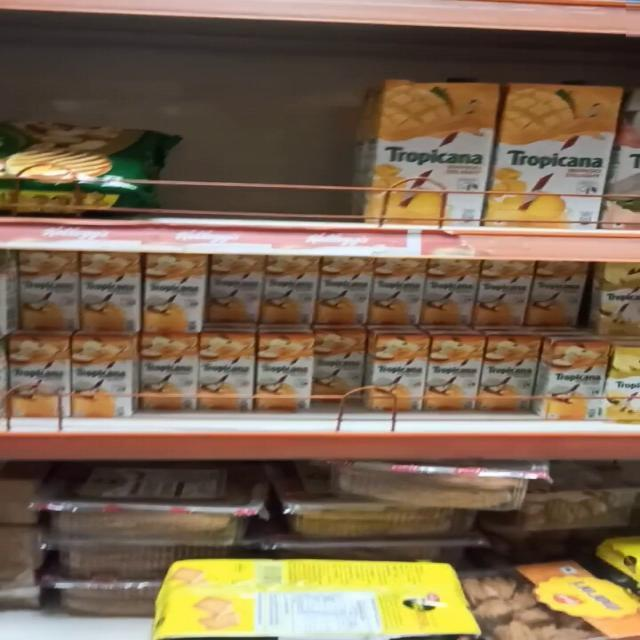Tropicana: (351, 72, 496, 222), (495, 69, 624, 233), (15, 252, 86, 336), (542, 335, 608, 422), (82, 248, 140, 338), (6, 339, 74, 414), (133, 339, 200, 408), (68, 340, 130, 412), (200, 334, 260, 408), (256, 334, 314, 410), (475, 262, 535, 332), (262, 256, 317, 331), (145, 254, 197, 332), (208, 255, 262, 328), (318, 258, 374, 328), (420, 259, 476, 329), (308, 331, 368, 395), (427, 332, 477, 408), (484, 338, 536, 409), (373, 338, 430, 402), (370, 259, 422, 326), (534, 262, 580, 326)
